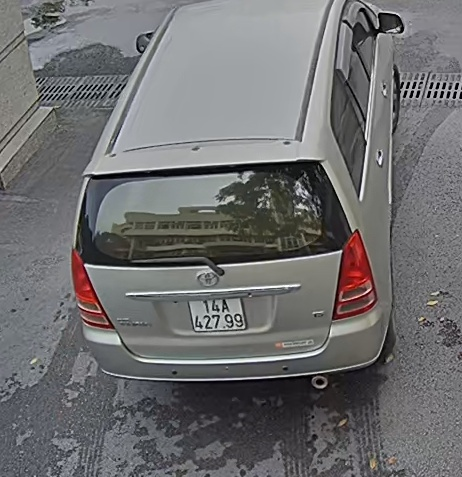vehicle plate: (183, 284, 251, 339)
